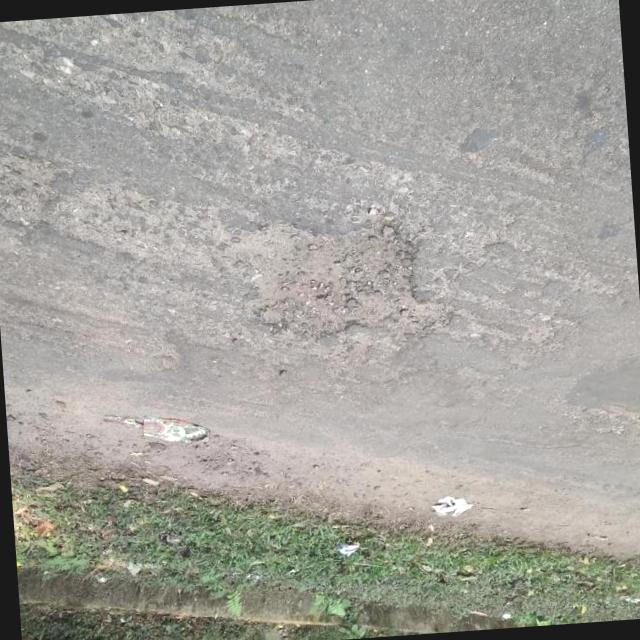pothole: (229, 209, 457, 351)
